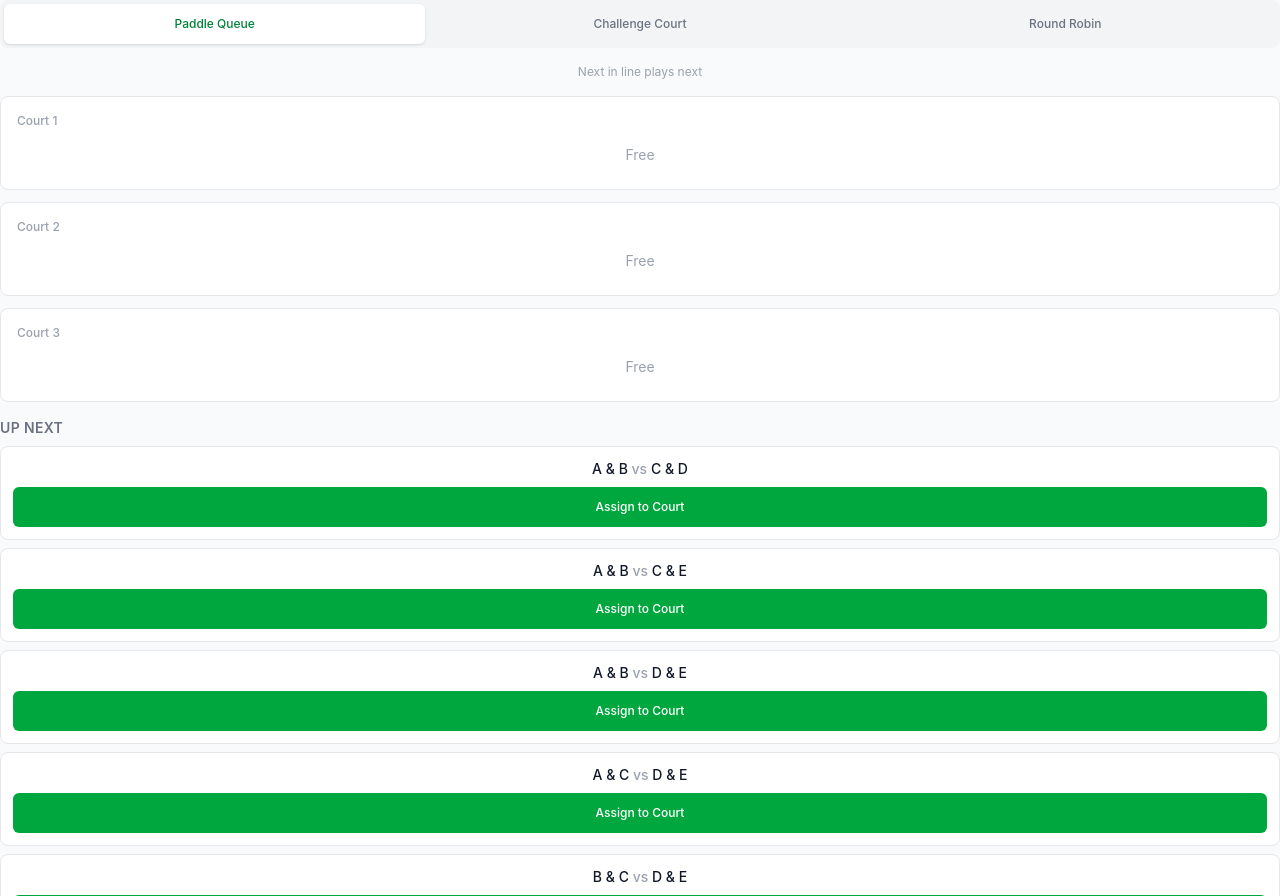
Test case: MatchupsTab suggestions › lists ranked candidates with a single assign button regardless of free courts
Expected: the heading "Up Next" is shown, 0,419 -> 63,436
Expected: the text "A & B vs C & D" is shown, 592,460 -> 688,477
What coordinates should you click on to do the following:
click the button "Assign to Court" below "C & D"
I would click on:
 (640, 507)
Its box is 13,487 -> 1267,527.
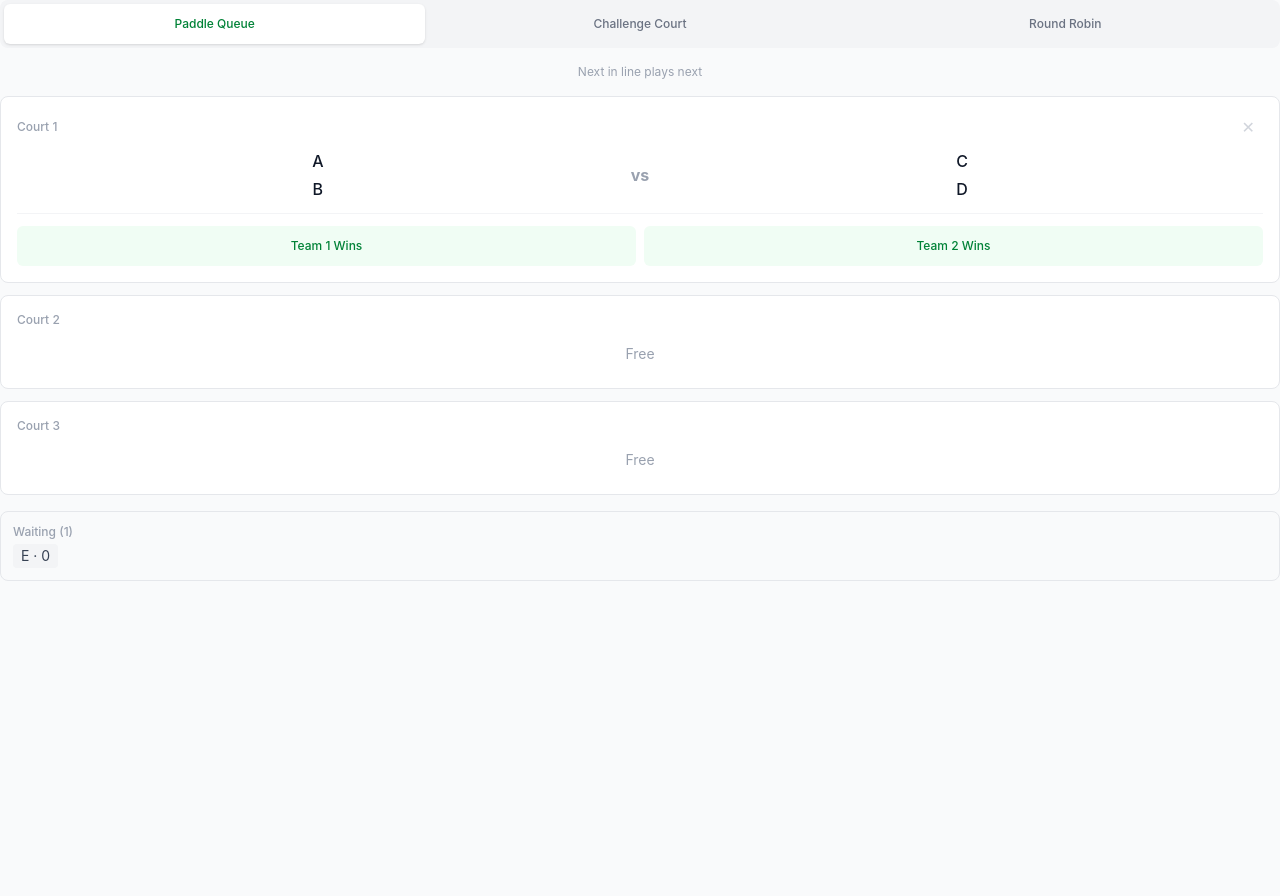
Result: the button "Team 1 Wins" is shown at 17,226 -> 636,266
